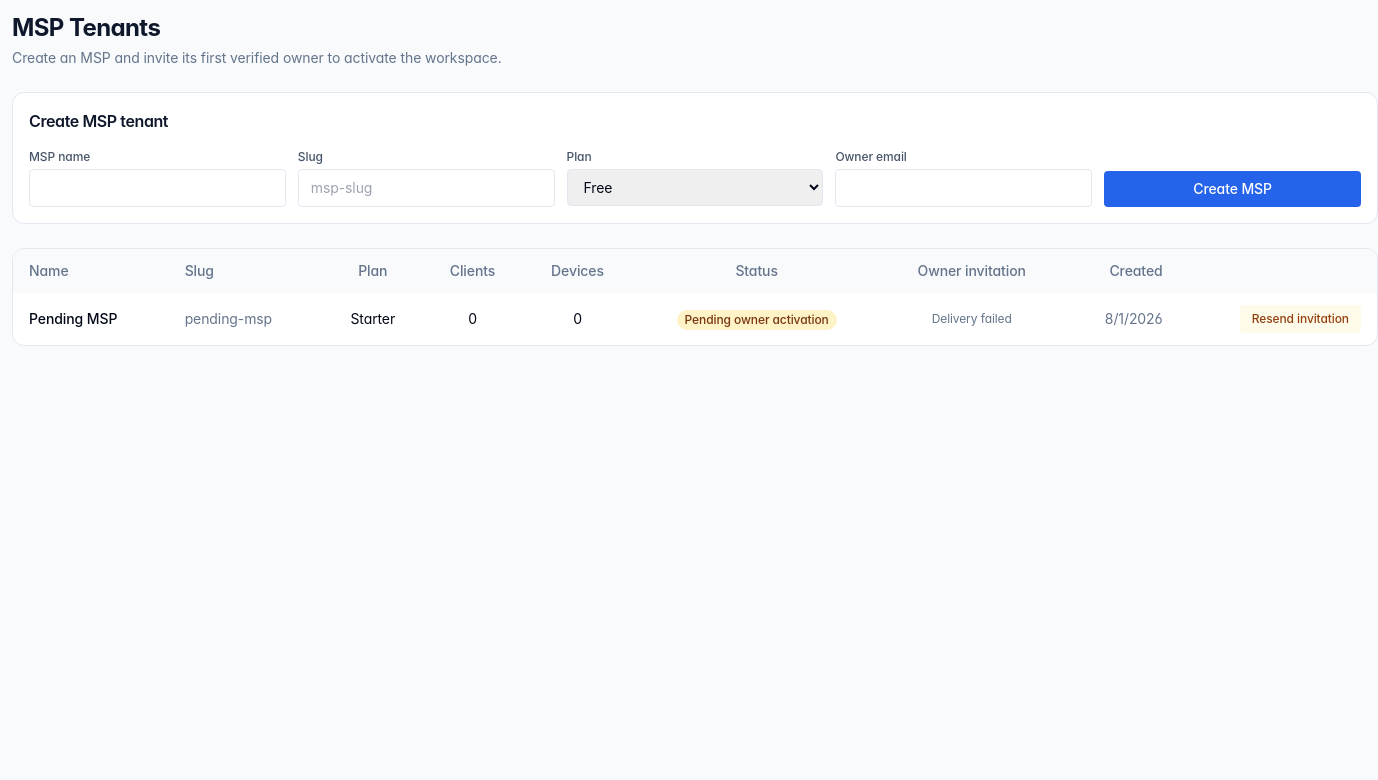
Scenario: platform MSP tenants › explains that a 409 invitation is still valid and already delivered
The width and height of the screenshot is (1378, 780).
Click the button with aria-label "Resend invitation for Pending MSP" at (1300, 319), box [1240,305,1361,333]
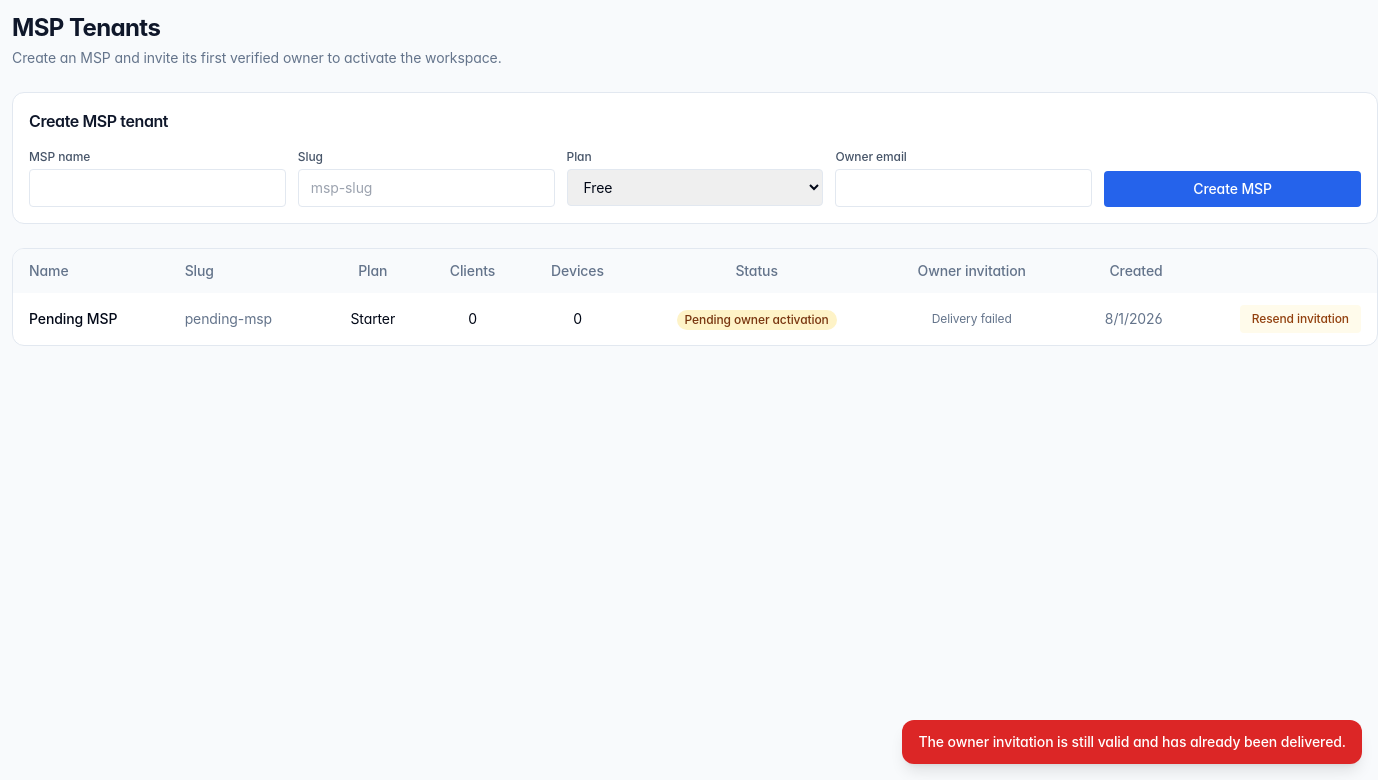
expect the message shows "still valid and has already been delivered": met, box [918,733,1346,750]
